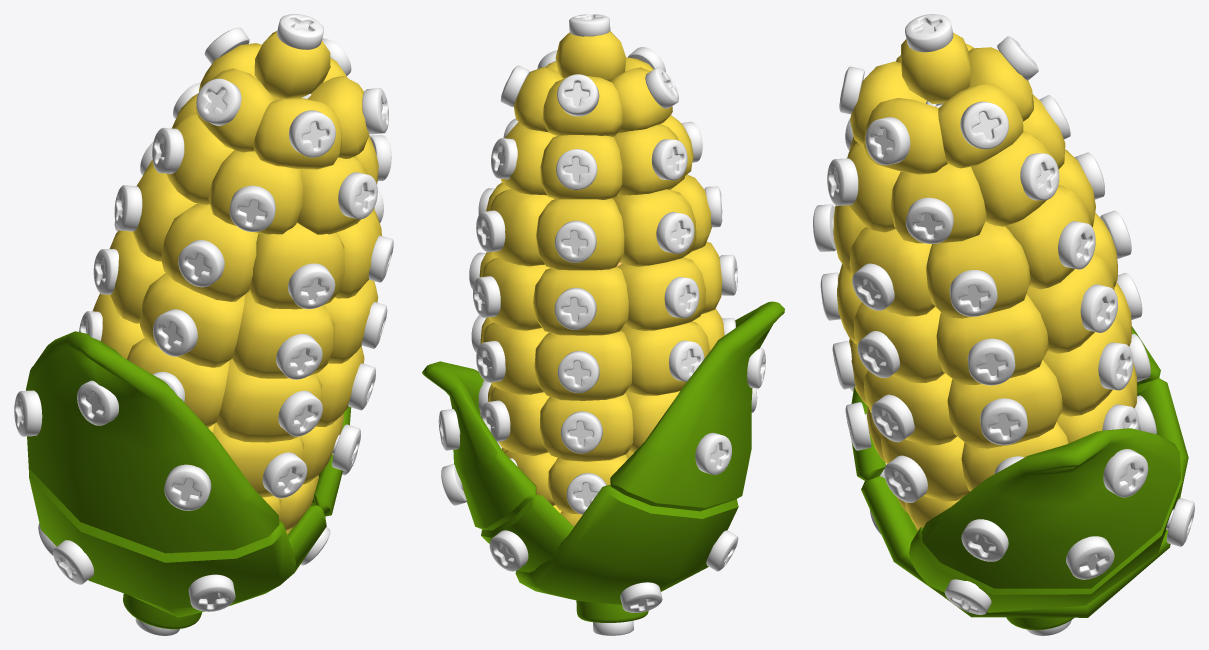
The model's file is Corn.fbx.
The picture shows the model from 3 angles, left to right: view 1: azimuth 30°, elevation 25°; view 2: azimuth 150°, elevation 25°; view 3: azimuth 270°, elevation 25°; orthographic projection. The views are drawn at different scales.
Parts seen in each view (by area): view 1: Screw (×27), Corn.063, Corn.002, Corn.013, Corn.048, Corn.047, Corn.005, Corn.019, Corn.009, Corn.052, Corn.054, Corn.020 (+18 smaller); view 2: Screw (×29), Corn.063, Corn.002, Corn.064, Corn.015, Corn.043, Corn.004, Corn.022, Corn.049, Corn.014, Corn.021, Corn.055 (+19 smaller); view 3: Screw (×34), Corn.064, Corn.002, Corn.011, Corn.045, Corn.003, Corn.017, Corn.007, Corn.012, Corn.010, Corn.046, Corn.044 (+22 smaller).
Part boxes in pixels (bbox=[...]): Screw (×27): bbox=[14, 14, 393, 611]; Corn.063: bbox=[26, 331, 279, 553]; Corn.002: bbox=[28, 468, 296, 617]; Corn.013: bbox=[161, 203, 258, 301]; Corn.048: bbox=[140, 273, 244, 367]; Corn.047: bbox=[232, 290, 334, 378]; Corn.005: bbox=[249, 223, 344, 309]; Corn.019: bbox=[216, 359, 322, 442]; Corn.009: bbox=[208, 150, 303, 234]; Corn.052: bbox=[253, 98, 341, 169]; Corn.054: bbox=[254, 31, 330, 98]; Corn.020: bbox=[127, 337, 229, 427]; Screw (×29): bbox=[438, 14, 765, 635]; Corn.063: bbox=[610, 301, 784, 511]; Corn.002: bbox=[515, 484, 738, 604]; Corn.064: bbox=[422, 361, 536, 530]; Corn.015: bbox=[534, 330, 631, 400]; Corn.043: bbox=[533, 266, 628, 335]; Corn.004: bbox=[536, 198, 624, 270]; Corn.022: bbox=[540, 393, 633, 461]; Corn.049: bbox=[617, 257, 705, 330]; Corn.014: bbox=[612, 189, 696, 266]; Corn.021: bbox=[621, 321, 709, 395]; Corn.055: bbox=[540, 135, 622, 199]; Screw (×34): bbox=[813, 14, 1194, 614]; Corn.064: bbox=[921, 428, 1180, 588]; Corn.002: bbox=[861, 378, 1188, 617]; Corn.011: bbox=[926, 221, 1030, 318]; Corn.045: bbox=[936, 294, 1048, 384]; Corn.003: bbox=[909, 453, 1182, 612]; Corn.017: bbox=[947, 360, 1062, 448]; Corn.007: bbox=[890, 163, 986, 243]; Corn.012: bbox=[849, 227, 935, 316]; Corn.010: bbox=[1005, 185, 1091, 289]; Corn.046: bbox=[853, 302, 944, 382]; Corn.044: bbox=[1026, 253, 1114, 353].
Size of the model in its own units: 6.1 by 11.09 by 5.9.
2 materials, 1 textured.
